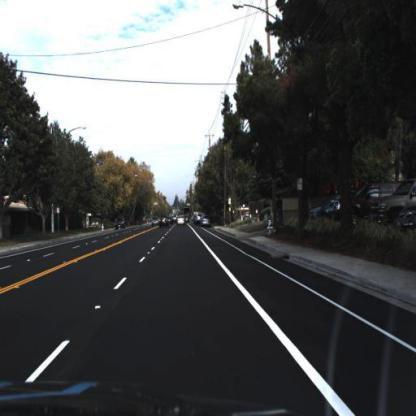car: (332, 184, 382, 225), (306, 198, 331, 226), (114, 214, 128, 237), (202, 213, 215, 230), (158, 211, 171, 227)
